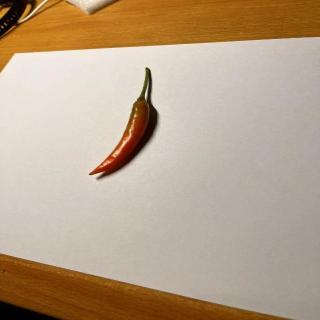Cabai Merah: (89, 68, 151, 176)
